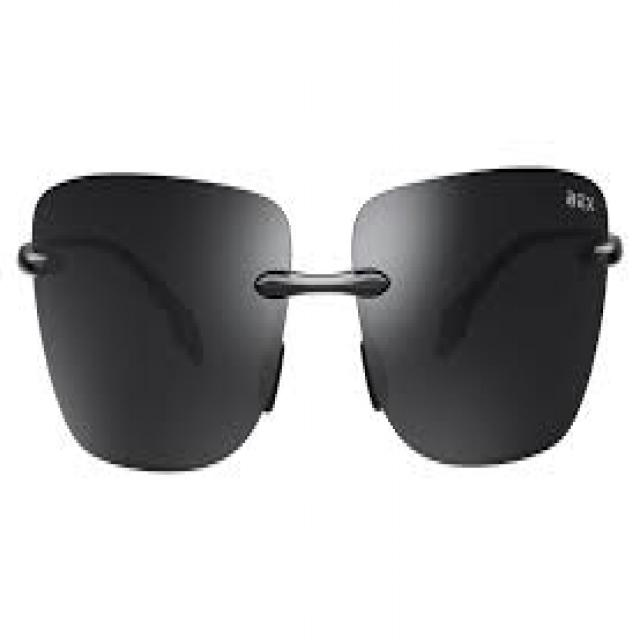suspicious-objects: (22, 150, 620, 470)
